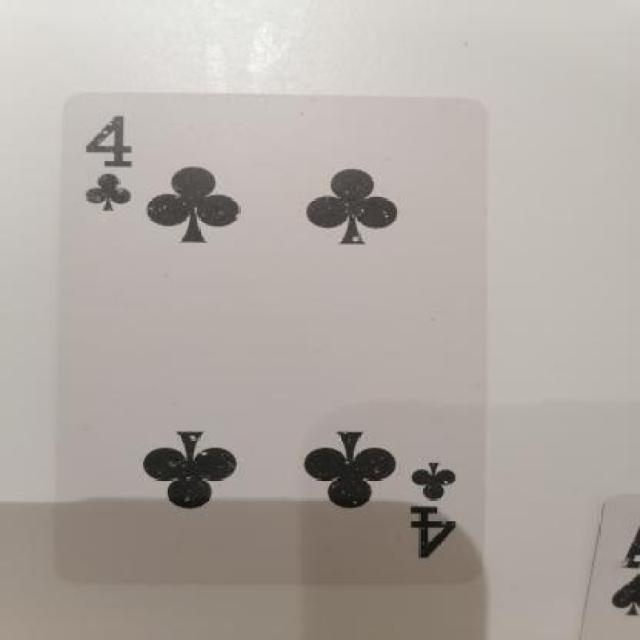4C: (399, 445, 481, 572), (70, 104, 148, 231)
